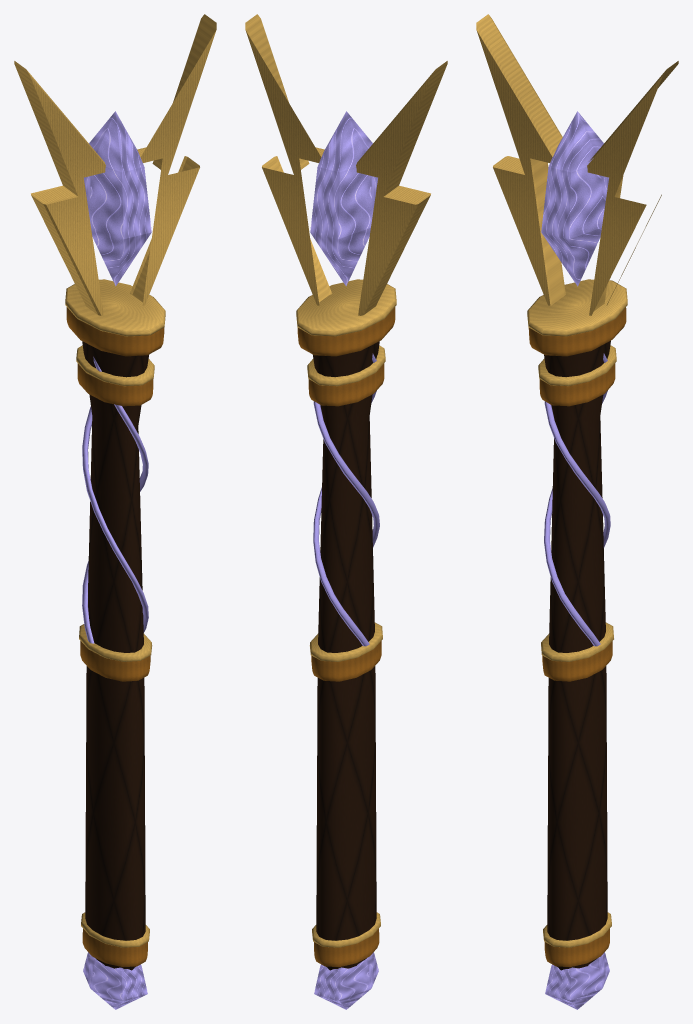
Rendered from storm_rod.glb.
The picture shows the model from 3 angles, left to right: view 1: azimuth 30°, elevation 25°; view 2: azimuth 150°, elevation 25°; view 3: azimuth 330°, elevation 25°; orthographic projection.
Visible parts, largest first — view 1: Leather wrapped grip, Lightning fork (×2), Storm violet focus, Engraved metal collar (×4), Polished collar edge (×4), Spiral elemental shaft inlay (×2), Inset elemental pommel; view 2: Leather wrapped grip, Lightning fork (×2), Storm violet focus, Engraved metal collar (×4), Polished collar edge (×4), Spiral elemental shaft inlay (×2), Inset elemental pommel; view 3: Leather wrapped grip, Lightning fork (×2), Storm violet focus, Engraved metal collar (×4), Polished collar edge (×4), Spiral elemental shaft inlay (×2), Inset elemental pommel.
Boxes of the visible parts, x1,y1,x2,y2 form: Leather wrapped grip: (82,341,149,970); Lightning fork (×2): (14,14,216,315); Storm violet focus: (84,111,151,286); Engraved metal collar (×4): (66,307,164,967); Polished collar edge (×4): (65,279,165,947); Spiral elemental shaft inlay (×2): (82,356,148,643); Inset elemental pommel: (83,952,147,1009); Leather wrapped grip: (312,341,379,970); Lightning fork (×2): (245,14,447,315); Storm violet focus: (310,111,377,286); Engraved metal collar (×4): (297,307,395,967); Polished collar edge (×4): (296,279,396,947); Spiral elemental shaft inlay (×2): (313,353,379,646); Inset elemental pommel: (314,952,378,1009); Leather wrapped grip: (544,340,610,970); Lightning fork (×2): (476,14,678,315); Storm violet focus: (541,111,608,286); Engraved metal collar (×4): (528,307,626,967); Polished collar edge (×4): (527,279,627,947); Spiral elemental shaft inlay (×2): (544,353,610,646); Inset elemental pommel: (545,952,609,1009).
Bounding box in the file's own units: 72 × 350 × 46.
Materials: 5 (5 with a texture image).
